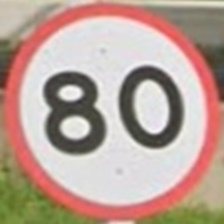80KPH: (4, 2, 220, 217)
